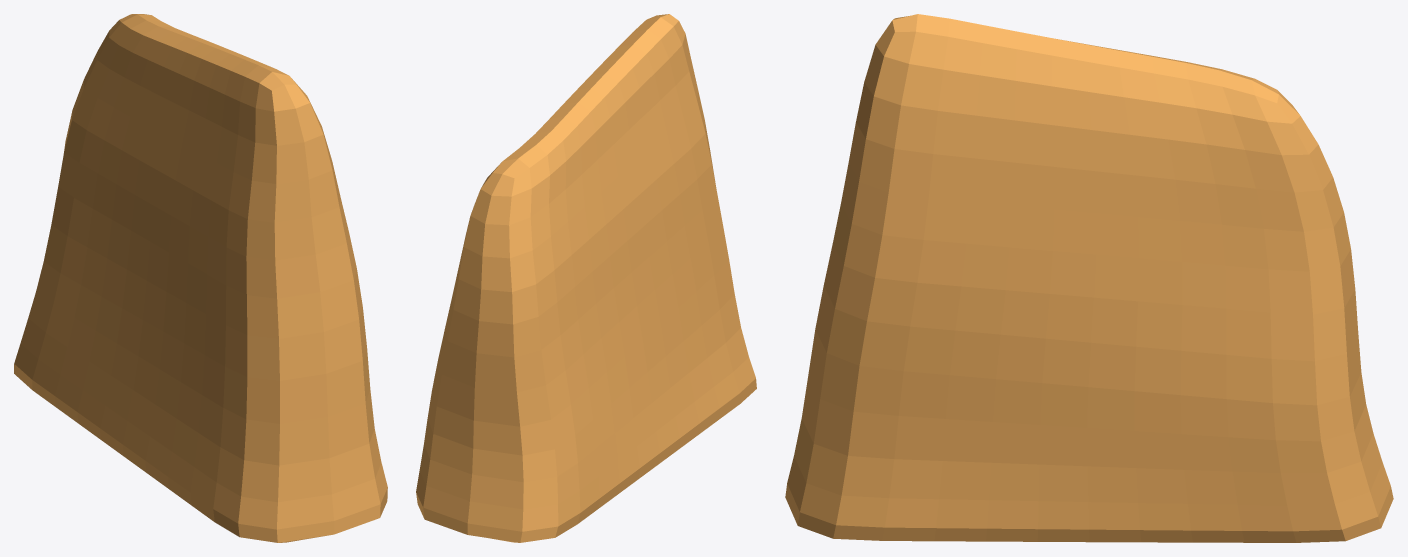
File: IsometricTile_Between_Obstacle_2.fbx
3 renders of one model, left to right at view 1: azimuth 30°, elevation 25°; view 2: azimuth 150°, elevation 25°; view 3: azimuth 270°, elevation 25°, orthographic. The views are drawn at different scales.
Parts seen in each view (by area): view 1: Cube.005; view 2: Cube.005; view 3: Cube.005.
Part boxes in pixels (bbox=[...]): Cube.005: bbox=[14, 14, 387, 542]; Cube.005: bbox=[416, 14, 756, 542]; Cube.005: bbox=[785, 14, 1393, 542].
Size of the model in its own units: 0.3514 by 0.9906 by 0.8777.
